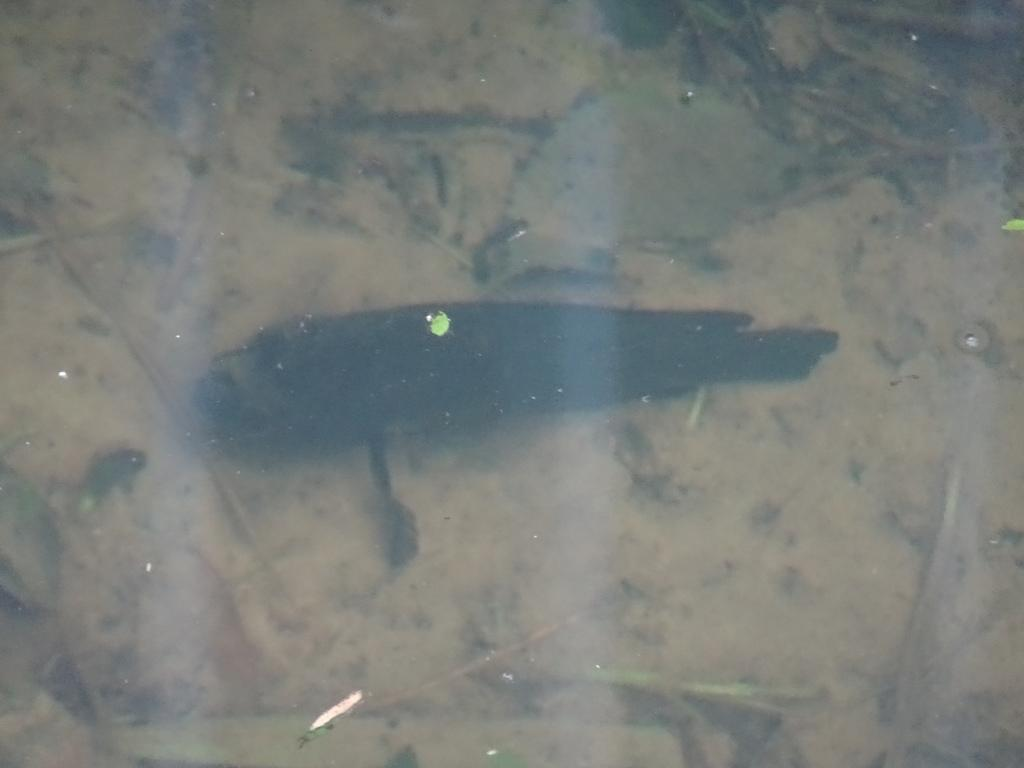Climbing Perch: (201, 292, 838, 532)
